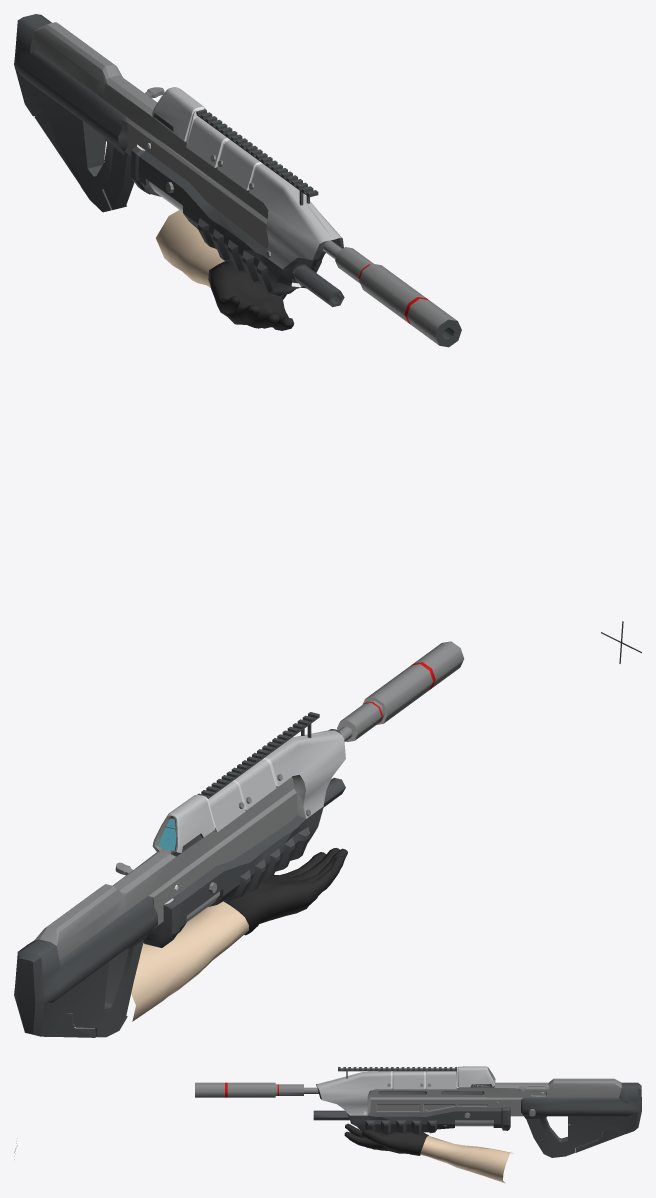
3 views of the same model, one above another, from view 1: azimuth 30°, elevation 25°; view 2: azimuth 150°, elevation 25°; view 3: azimuth 270°, elevation 25° (orthographic). The views are drawn at different scales.
Parts seen in each view (by area): view 1: SketchUp.031, SketchUp, SketchUp.005, SketchUp.012, non-ts_css.001, non-ts_css.002, SketchUp.056, instance_2, SketchUp.011, SketchUp.016, SketchUp.015, SketchUp.054 (+1 smaller); view 2: SketchUp.031, SketchUp, SketchUp.005, non-ts_css.002, non-ts_css.001, SketchUp.012, SketchUp.056, SketchUp.011, instance_2, SketchUp.016, SketchUp.054, SketchUp.015 (+2 smaller); view 3: SketchUp, SketchUp.031, SketchUp.005, non-ts_css.002, SketchUp.012, non-ts_css.001, SketchUp.056, SketchUp.011, SketchUp.016, SketchUp.015, instance_2, SketchUp.054 (+5 smaller).
Boxes of the visible parts, x1=… form: SketchUp.031: x1=14, y1=14, x2=134, y2=212; SketchUp: x1=33, y1=22, x2=268, y2=251; SketchUp.005: x1=130, y1=145, x2=343, y2=295; SketchUp.012: x1=249, y1=164, x2=342, y2=269; non-ts_css.001: x1=208, y1=261, x2=305, y2=330; non-ts_css.002: x1=156, y1=210, x2=224, y2=287; SketchUp.056: x1=359, y1=263, x2=426, y2=322; instance_2: x1=196, y1=108, x2=318, y2=205; SketchUp.011: x1=152, y1=87, x2=203, y2=140; SketchUp.016: x1=217, y1=140, x2=259, y2=190; SketchUp.015: x1=186, y1=116, x2=227, y2=167; SketchUp.054: x1=407, y1=298, x2=457, y2=344; SketchUp.031: x1=14, y1=896, x2=157, y2=1037; SketchUp: x1=34, y1=774, x2=306, y2=960; SketchUp.005: x1=143, y1=729, x2=341, y2=947; non-ts_css.002: x1=131, y1=901, x2=248, y2=1021; non-ts_css.001: x1=223, y1=848, x2=347, y2=935; SketchUp.012: x1=265, y1=730, x2=345, y2=818; SketchUp.056: x1=365, y1=664, x2=433, y2=723; SketchUp.011: x1=152, y1=794, x2=214, y2=852; instance_2: x1=197, y1=712, x2=319, y2=798; SketchUp.016: x1=234, y1=759, x2=276, y2=809; SketchUp.054: x1=414, y1=641, x2=464, y2=687; SketchUp.015: x1=208, y1=781, x2=245, y2=831; SketchUp: x1=367, y1=1067, x2=621, y2=1116; SketchUp.031: x1=521, y1=1082, x2=641, y2=1157; SketchUp.005: x1=316, y1=1084, x2=510, y2=1134; non-ts_css.002: x1=420, y1=1136, x2=512, y2=1183; SketchUp.012: x1=316, y1=1071, x2=390, y2=1115; non-ts_css.001: x1=344, y1=1123, x2=428, y2=1155; SketchUp.056: x1=227, y1=1082, x2=275, y2=1097; SketchUp.011: x1=458, y1=1066, x2=495, y2=1087; SketchUp.016: x1=393, y1=1071, x2=424, y2=1089; SketchUp.015: x1=426, y1=1071, x2=456, y2=1089; instance_2: x1=338, y1=1067, x2=457, y2=1078; SketchUp.054: x1=195, y1=1082, x2=224, y2=1097.
Size of the model in its own units: 0.0356 by 0.0557 by 0.2974.
